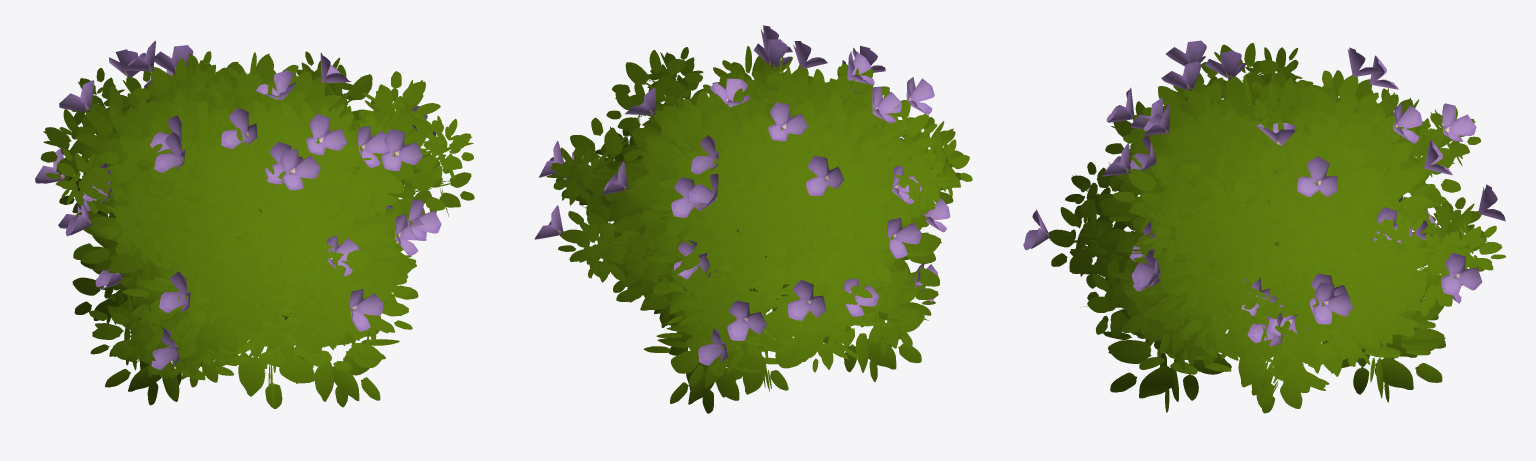
Rendered from Bush_Common_Flowers.glb.
3 renders of one model, left to right at view 1: azimuth 30°, elevation 25°; view 2: azimuth 150°, elevation 25°; view 3: azimuth 270°, elevation 25°, orthographic. The views are drawn at different scales.
Visible parts, largest first — view 1: Bush_Common_Flowers; view 2: Bush_Common_Flowers; view 3: Bush_Common_Flowers.
Boxes of the visible parts, x1,y1,x2,y2 form: Bush_Common_Flowers: (35,40,474,408); Bush_Common_Flowers: (534,25,972,413); Bush_Common_Flowers: (1023,40,1505,413).
Size of the model in its own units: 1.91 by 1.58 by 1.97.
Materials: 2 (2 with a texture image).
